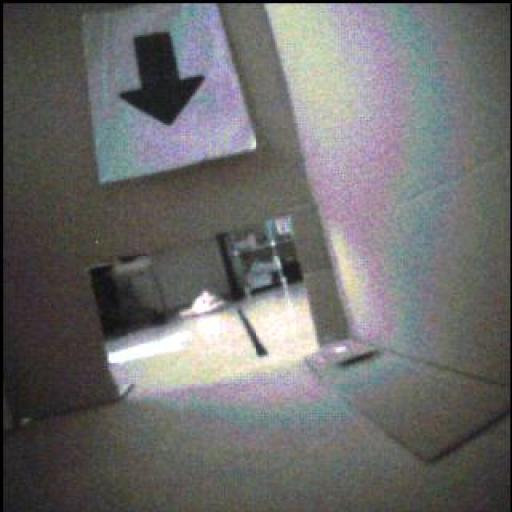arrow: (121, 33, 206, 126)
